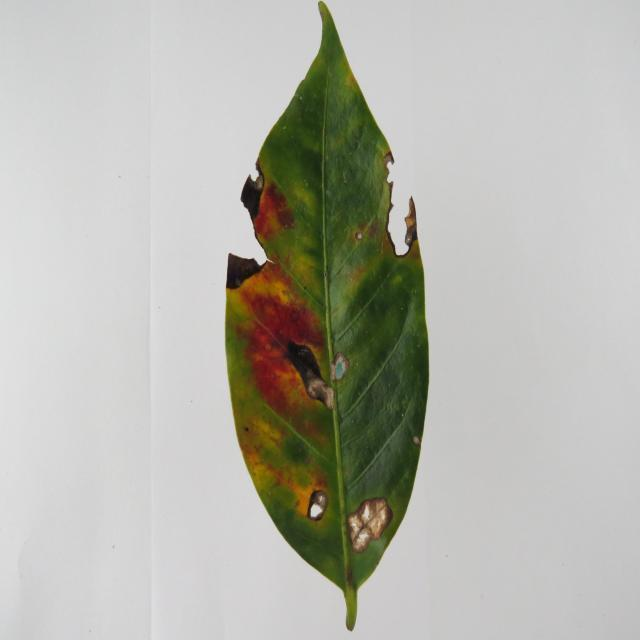DeficienciaNutricional-Fosforo: (225, 3, 429, 630)
